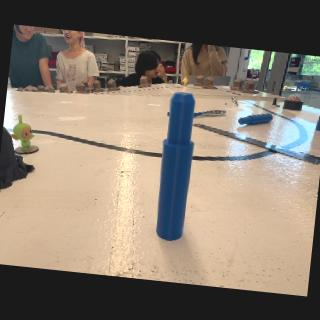teletubby: (11, 114, 34, 150)
